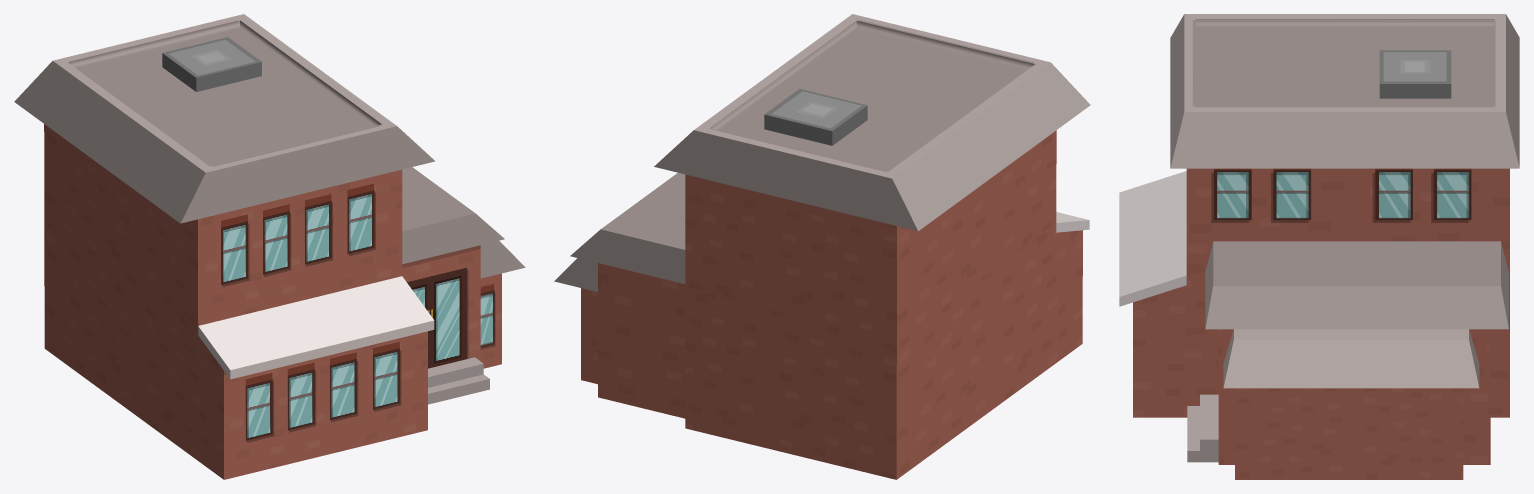
The model's file is city_residential_03.fbx.
3 views of the same model, side by side, from view 1: azimuth 30°, elevation 25°; view 2: azimuth 150°, elevation 25°; view 3: azimuth 270°, elevation 25° (orthographic). The views are drawn at different scales.
Parts seen in each view (by area): view 1: city_residential_03; view 2: city_residential_03; view 3: city_residential_03.
Boxes of the visible parts, x1,y1,x2,y2 form: city_residential_03: (14,14,525,479); city_residential_03: (554,14,1090,479); city_residential_03: (1119,14,1519,479).
Size of the model in its own units: 10.23 by 7.76 by 9.12.
